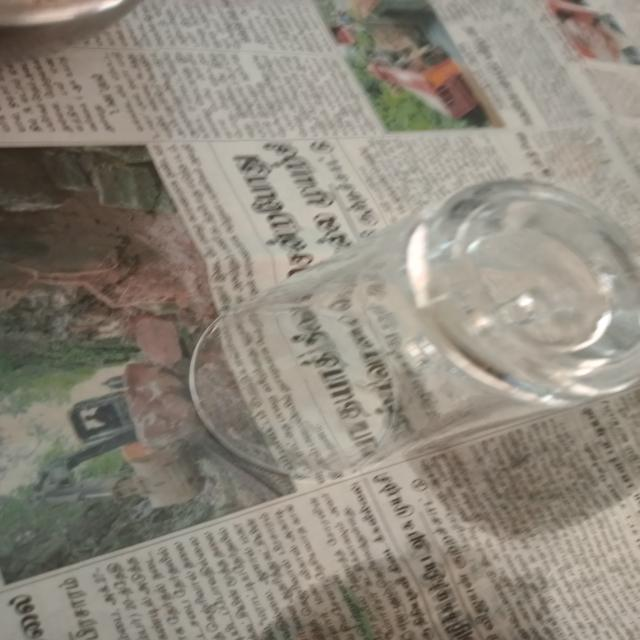glass-VX4N: (190, 175, 640, 484)
